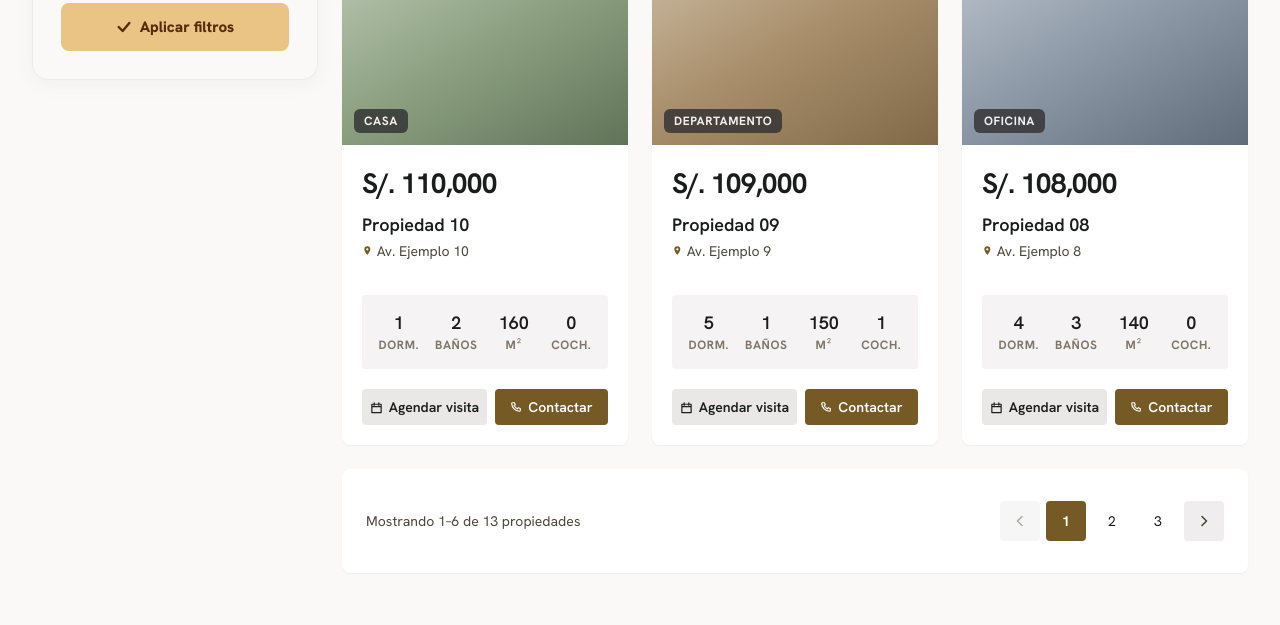
Test: PropertyList (integración del catálogo) › Paginación › vuelve a la primera página al cambiar un filtro
(page scrolled)
Expected: the text "Mostrando 1–6 de 13 propiedades" is shown, [366, 511, 580, 531]
Click the button named "Ir a la página 2" at (1112, 521), box [1092, 501, 1132, 541]
(page scrolled)
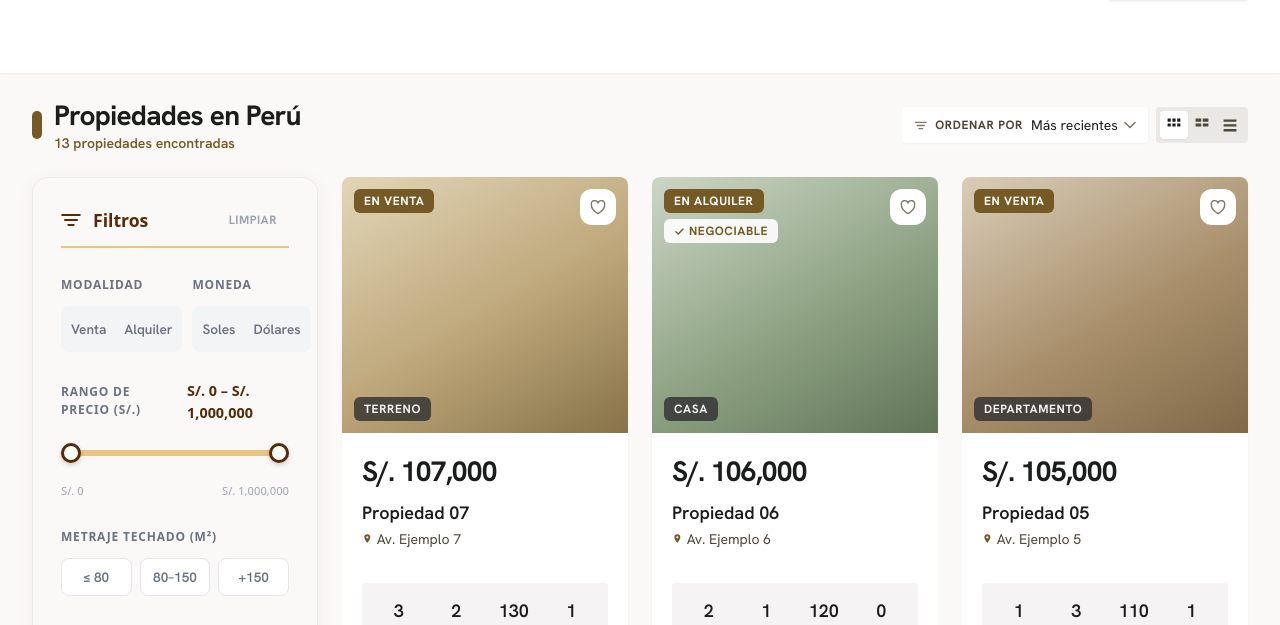
Select "Menor precio" in the dropdown named "Ordenar propiedades" at (1084, 125), box [1031, 116, 1136, 134]
(page scrolled)
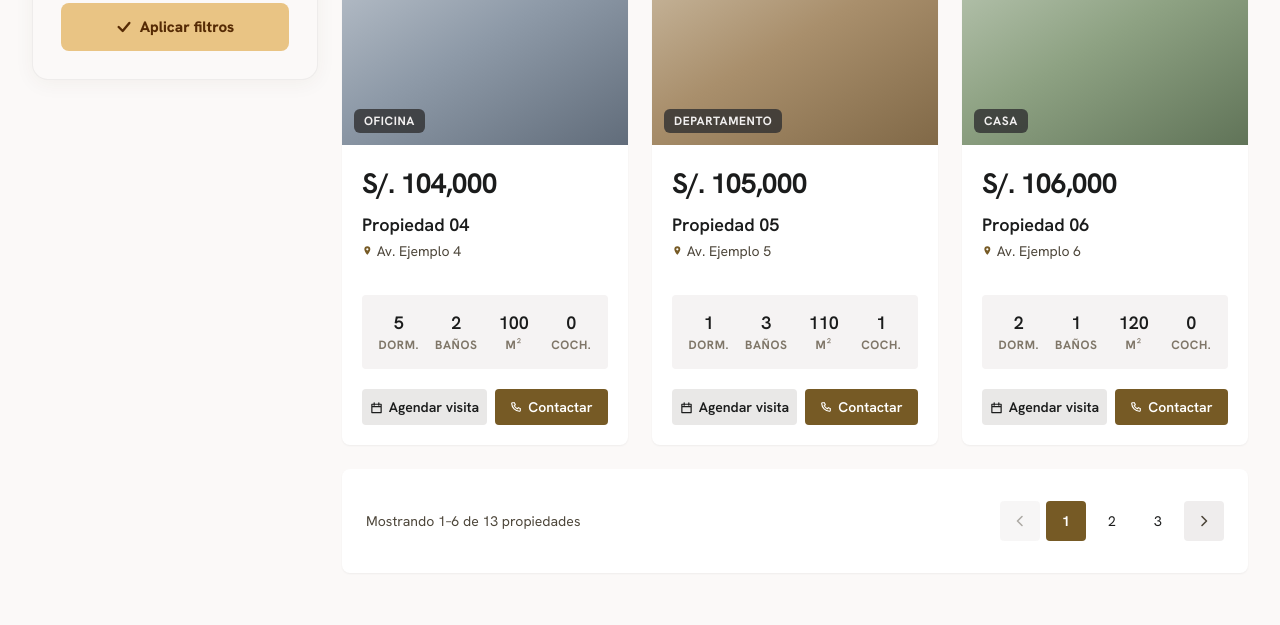
Expected: the text "Mostrando 1–6 de 13 propiedades" is shown, [366, 511, 580, 531]
